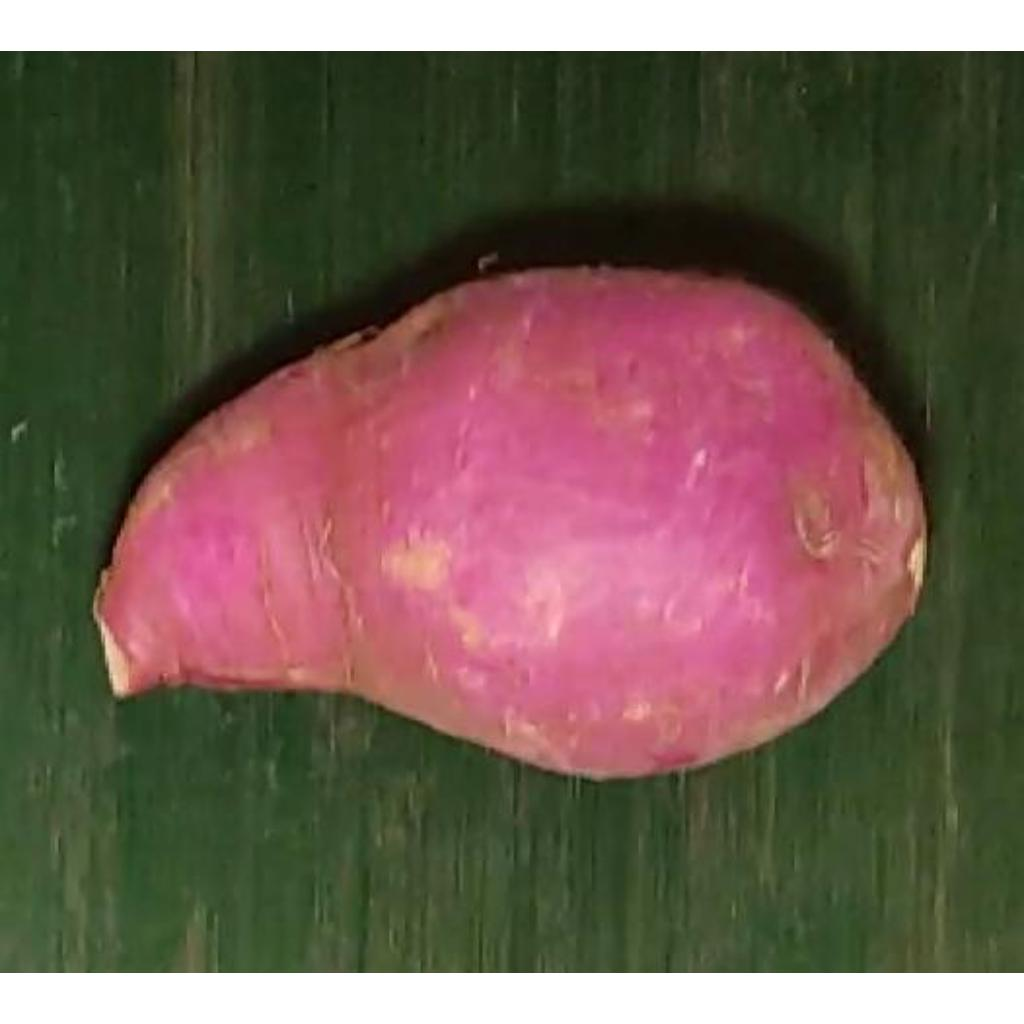Sweet Potato: (91, 265, 925, 783)
